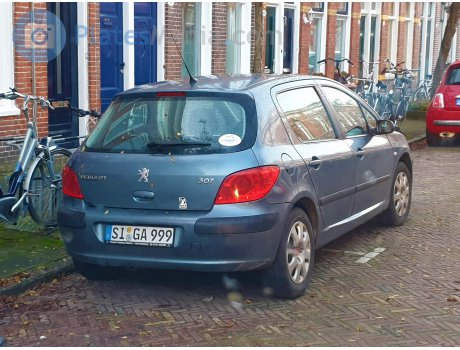License Plates: (109, 225, 170, 241)
